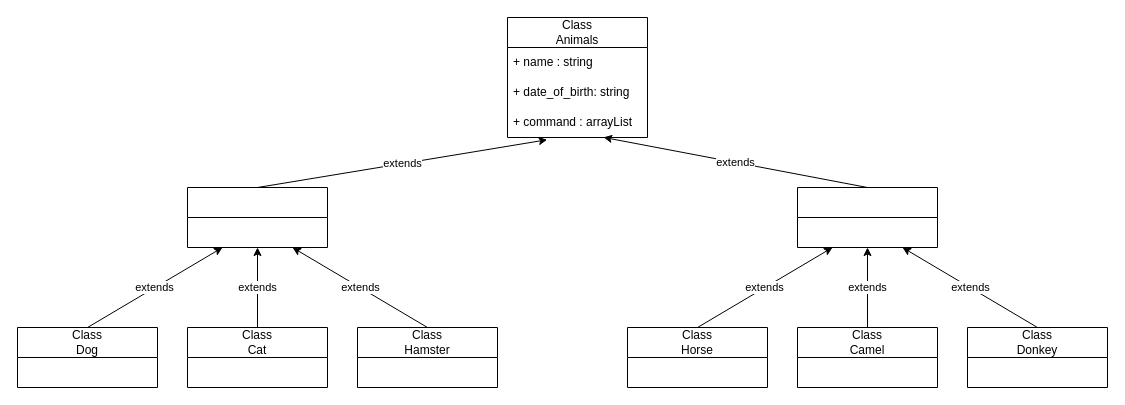
Image size: 1125x405. Some labels were removed from this diagram. Each missing label, with the centre of its shape:
Class packedAnimals: (x=867, y=217)
Class pets: (x=257, y=217)
